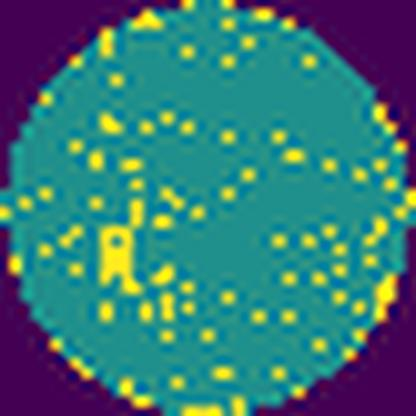Loc: (98, 198, 146, 296)
